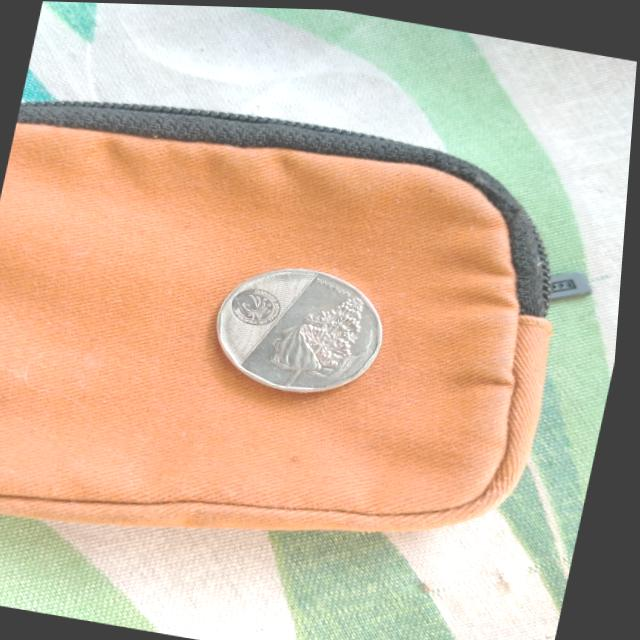10_New_Back: (255, 262, 399, 407)
